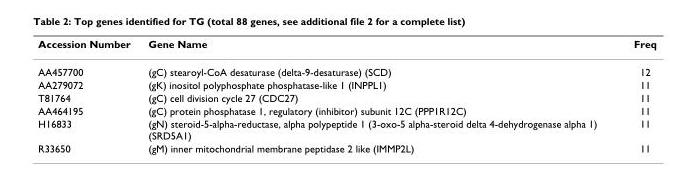table: (37, 37, 655, 153)
table column: (138, 37, 614, 153), (37, 37, 138, 153), (614, 37, 655, 153)
table column header: (37, 37, 655, 57)
table row: (37, 116, 655, 141), (37, 37, 655, 57), (37, 57, 655, 77), (37, 77, 655, 90), (37, 90, 655, 103), (37, 103, 655, 116), (37, 141, 655, 153)
